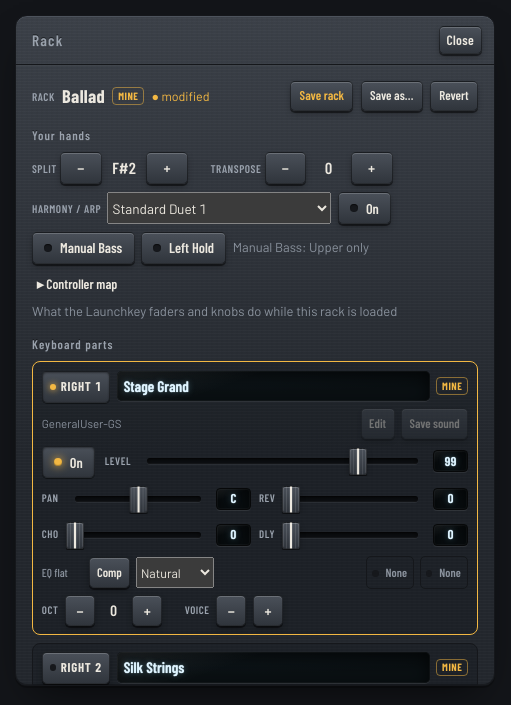
Test case: Rack panel: the head › Save as… asks for a rack name and saves a new rack under it
Step 1. Click the button "Save as…" → (392,96), box [361, 81, 423, 111]
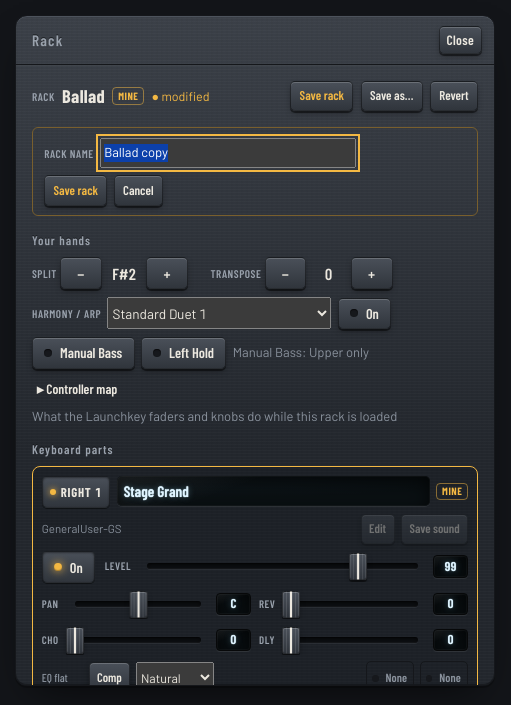
Step 2. Replace the text in the field labelled "Rack name" with "Sunday Gospel" → (228,153), box [100, 138, 356, 168]
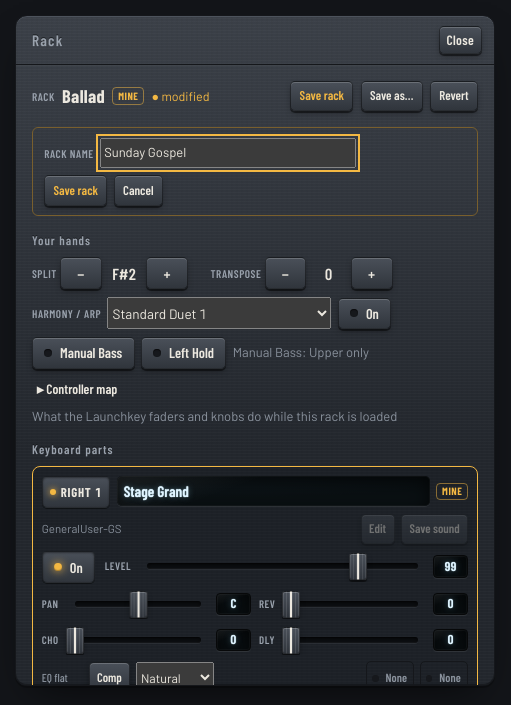
Step 3. Click the button "Save rack" below "Rack name" → (76,191), box [44, 176, 107, 206]
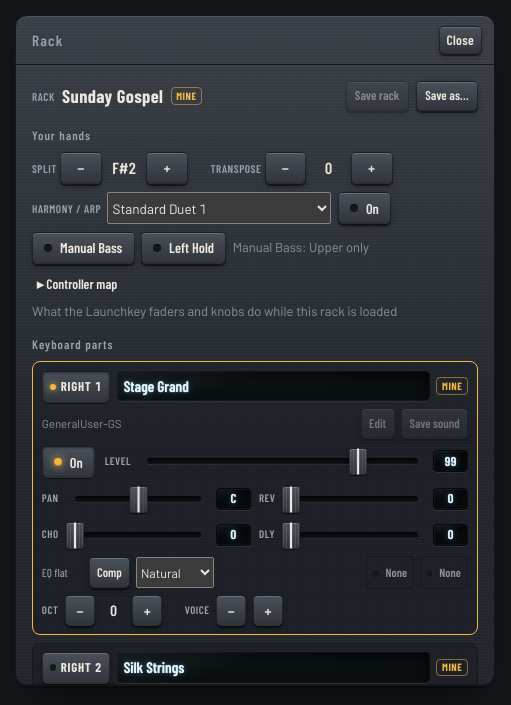
Now the element with class "rackhead" shows "Sunday Gospel", box [62, 85, 163, 107]
